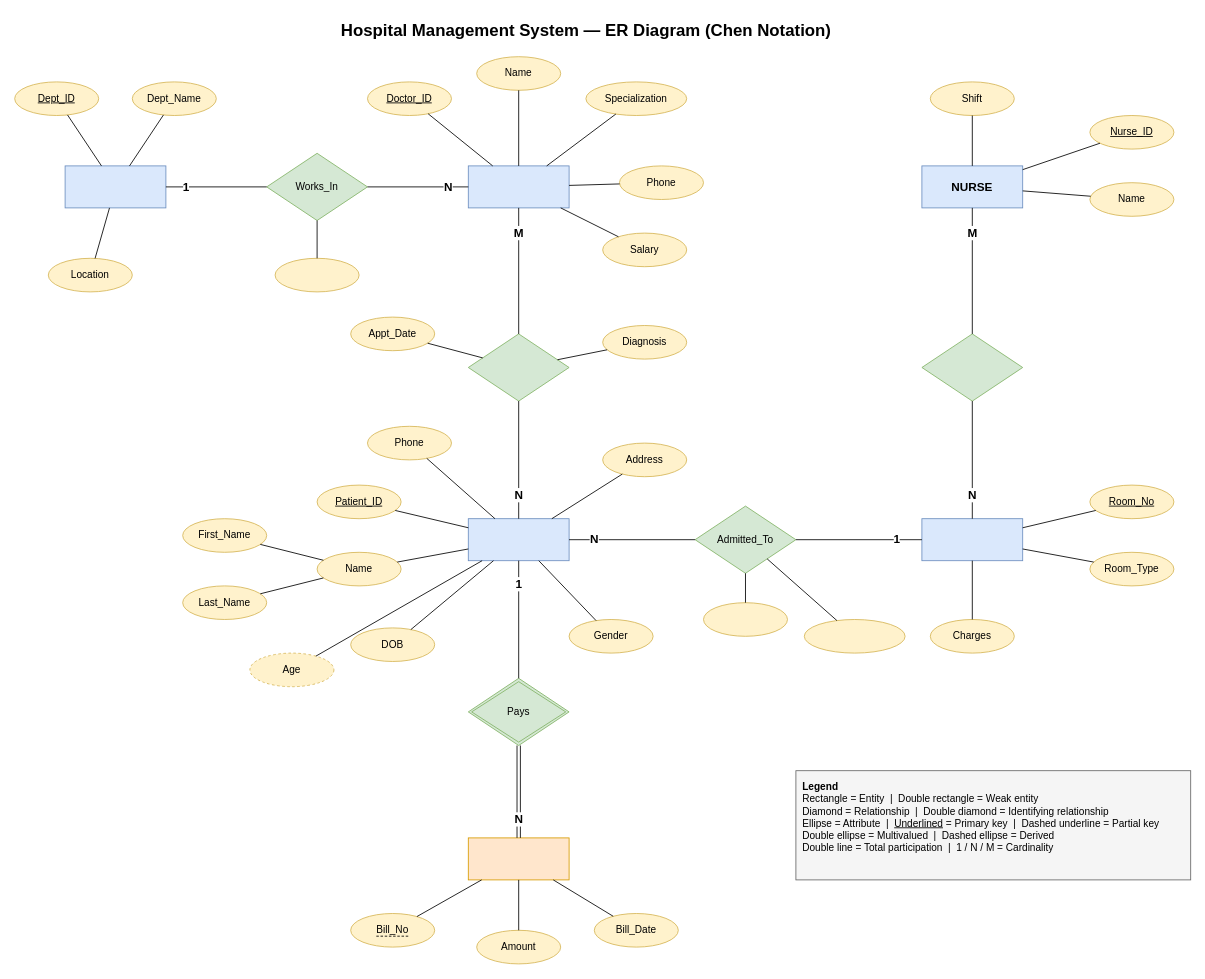
The diagram is 1205 pixels wide and 979 high, and some of its shapes have lost their labels. Here are the shapes that lost their labels. From the top down, the centre of each, then its label:
At (115,186): "DEPARTMENT".
At (518,186): "DOCTOR".
At (316,274): "Join_Date".
At (518,367): "Consults".
At (972,367): "Attends".
At (518,539): "PATIENT".
At (972,539): "ROOM".
At (745,619): "Admit_Date".
At (854,636): "Discharge_Date".
At (518,858): "BILL".
